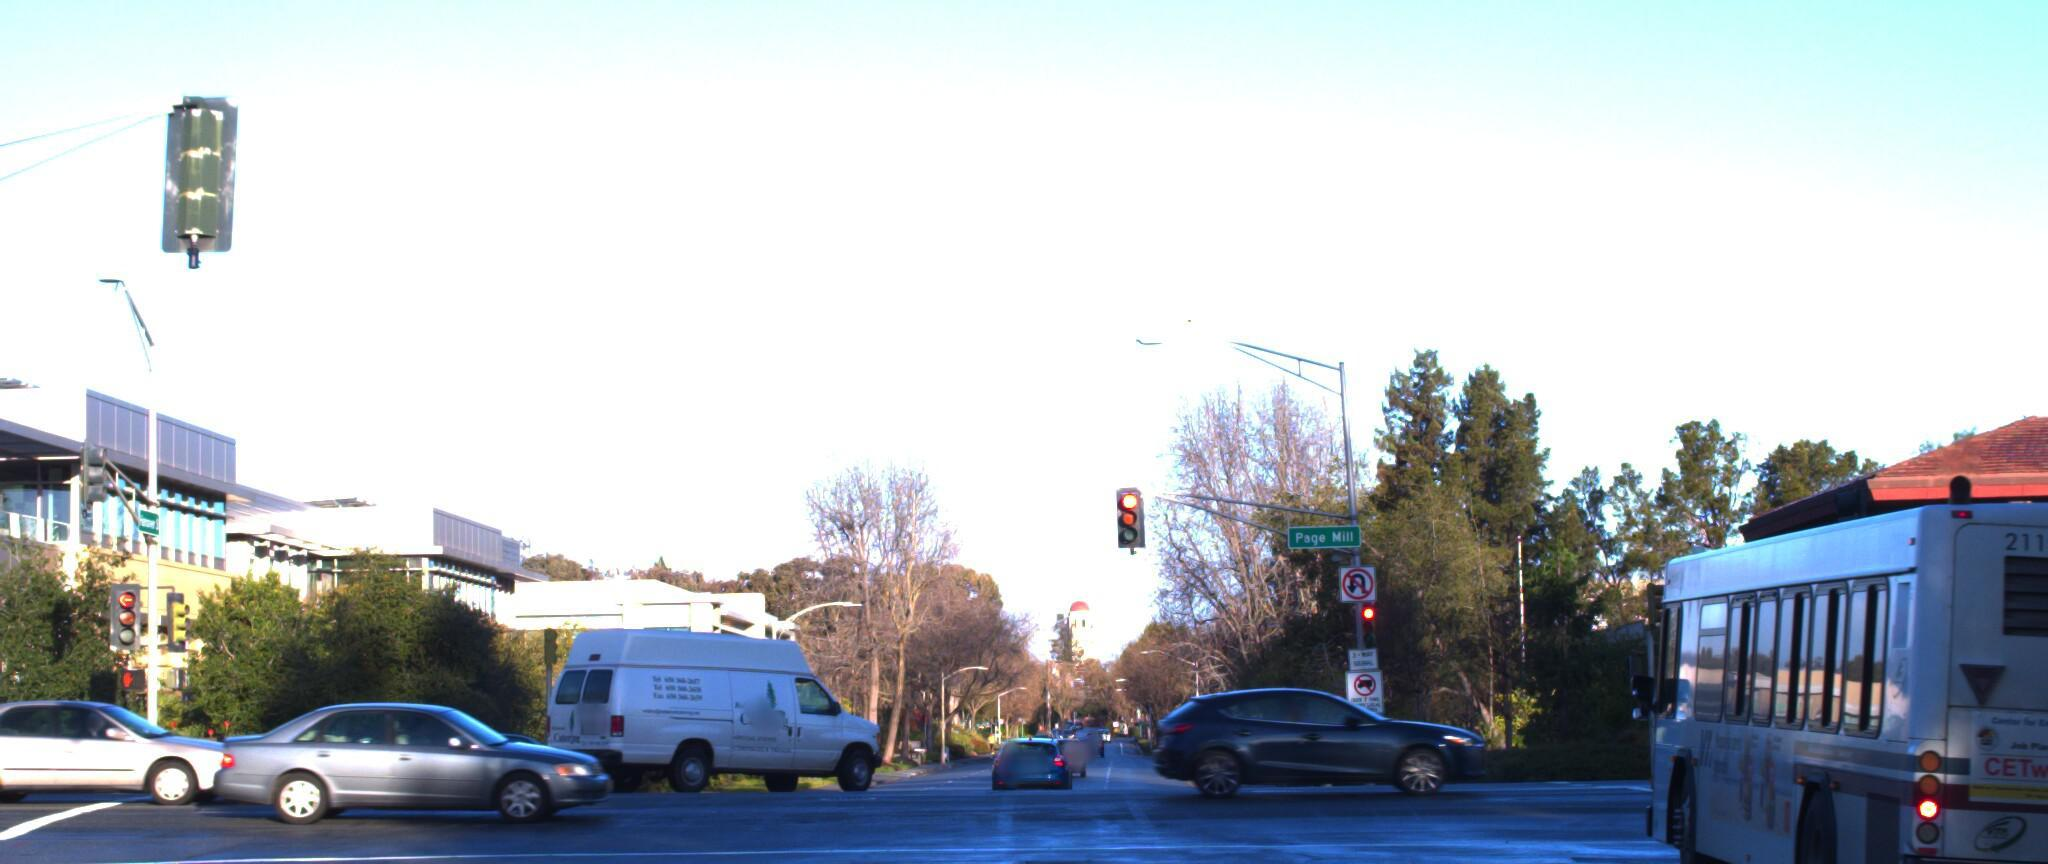bus: (1603, 411, 2048, 864)
car: (513, 634, 903, 801), (216, 687, 620, 824), (1144, 677, 1476, 808), (0, 673, 280, 814), (982, 724, 1071, 800)
